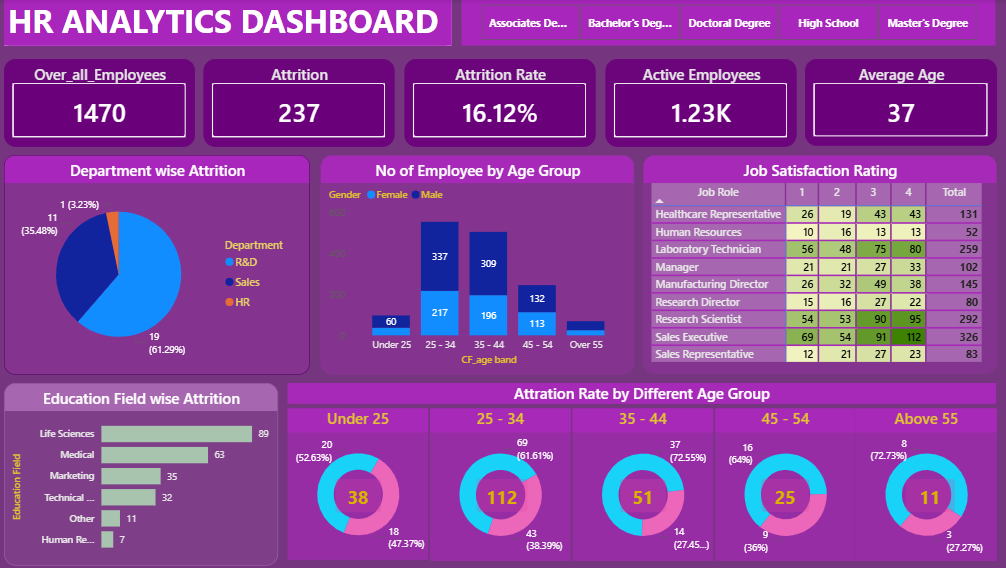

The page's visual inventory and layout, read from the dashboard file:
{"tool":"powerbi","page":{"name":"Page 1","canvas":[1280,720],"ordinal":0},"visuals":[{"type":"cardVisual","title":"Over_all_Employees","fields":{"Data":["HR data.Employee_Count"]},"box":[14.6,74.8,240.7,110.6],"z":0},{"type":"cardVisual","title":"Attrition","fields":{"Data":["Sum(HR data.Attrition Count)"]},"box":[266.8,74.8,240.7,110.6],"z":1000},{"type":"cardVisual","title":"Attrition Rate","fields":{"Data":["HR data.Attrition Rate"]},"box":[518.9,74.8,240.7,110.6],"z":2000},{"type":"cardVisual","title":"Active Employees","fields":{"Data":["HR data.Active Employees"]},"box":[772.6,74.8,240.7,110.6],"z":3000},{"type":"cardVisual","title":"Average Age","fields":{"Data":["Avg(HR data.Age)"]},"box":[1024.3,75.6,241.9,109.6],"z":4000},{"type":"pieChart","title":"Department wise Attrition","fields":{"Category":["HR data.Department"],"Y":["Sum(HR data.Attrition Count)"]},"box":[14.6,196.8,385.5,276.5],"z":5000},{"type":"columnChart","title":"No of Employee by Age Group","fields":{"Category":["HR data.CF_age band"],"Y":["CountNonNull(HR data.Employee Count)"],"Series":["HR data.Gender"]},"box":[413.1,196.8,395.3,276.5],"z":6000},{"type":"pivotTable","title":"Job Satisfaction Rating","fields":{"Rows":["HR data.Job Role"],"Columns":["HR data.Job Satisfaction"],"Values":["CountNonNull(HR data.Employee Count)"]},"box":[820.2,196.5,446,275.9],"z":7000},{"type":"barChart","title":"Education Field wise Attrition","fields":{"Category":["HR data.Education Field"],"Y":["Sum(HR data.Attrition Count)"]},"box":[15,484,345,230],"z":8000},{"type":"donutChart","title":"Under 25","fields":{"Category":["HR data.Gender"],"Y":["Sum(HR data.Attrition Count)"],"Series":["HR data.CF_age band"]},"box":[372.3,515.9,177.6,190.9],"z":9000},{"type":"textbox","title":"Attration Rate by Different Age Group","box":[372.5,484.7,893,26],"z":10000},{"type":"donutChart","title":"25 - 34","fields":{"Category":["HR data.Gender"],"Y":["Sum(HR data.Attrition Count)"],"Series":["HR data.CF_age band"]},"box":[551.4,516.7,177.3,191.9],"z":11000},{"type":"donutChart","title":"35 - 44","fields":{"Category":["HR data.Gender"],"Y":["Sum(HR data.Attrition Count)"],"Series":["HR data.CF_age band"]},"box":[731.9,516.7,177.3,191.9],"z":12000},{"type":"donutChart","title":"45 - 54","fields":{"Category":["HR data.Gender"],"Y":["Sum(HR data.Attrition Count)"],"Series":["HR data.CF_age band"]},"box":[910.9,516.7,177.3,191.9],"z":13000},{"type":"donutChart","title":"Above 55","fields":{"Category":["HR data.Gender"],"Y":["Sum(HR data.Attrition Count)"],"Series":["HR data.CF_age band"]},"box":[1088.2,516.7,177.3,191.9],"z":14000},{"type":"cardVisual","fields":{"Data":["Sum(HR data.Attrition Count)"]},"box":[427.8,598.6,68.3,53.7],"z":15000},{"type":"cardVisual","fields":{"Data":["Sum(HR data.Attrition Count)"]},"box":[604.7,599.1,75.6,52.9],"z":16000},{"type":"cardVisual","fields":{"Data":["Sum(HR data.Attrition Count)"]},"box":[785.6,598.6,68.3,53.7],"z":17000},{"type":"cardVisual","fields":{"Data":["Sum(HR data.Attrition Count)"]},"box":[963.8,599.1,71.8,52.9],"z":18000},{"type":"cardVisual","fields":{"Data":["Sum(HR data.Attrition Count)"]},"box":[1145.1,598.6,73.2,53.7],"z":19000},{"type":"textbox","title":"HR ANALYTICS DASHBOARD","box":[15.1,0,563.2,58.6],"z":20000},{"type":"slicer","fields":{"Values":["HR data.Education"]},"box":[591.5,0,672.8,58.6],"z":21000}]}

Visuals, with their boxes in screenshot pixels (x1, y1, x2, y2), scaled from the page's 1280x720 canvas onto the 1006x568 screenshot:
"Over_all_Employees" cardVisual: [11, 59, 201, 146]
"Attrition" cardVisual: [210, 59, 399, 146]
"Attrition Rate" cardVisual: [408, 59, 597, 146]
"Active Employees" cardVisual: [607, 59, 796, 146]
"Average Age" cardVisual: [805, 60, 995, 146]
"Department wise Attrition" pieChart: [11, 155, 314, 373]
"No of Employee by Age Group" columnChart: [325, 155, 635, 373]
"Job Satisfaction Rating" pivotTable: [645, 155, 995, 373]
"Education Field wise Attrition" barChart: [12, 382, 283, 563]
"Under 25" donutChart: [293, 407, 432, 558]
"Attration Rate by Different Age Group" textbox: [293, 382, 995, 403]
"25 - 34" donutChart: [433, 408, 573, 559]
"35 - 44" donutChart: [575, 408, 715, 559]
"45 - 54" donutChart: [716, 408, 855, 559]
"Above 55" donutChart: [855, 408, 995, 559]
cardVisual - Sum(HR data.Attrition Count): [336, 472, 390, 515]
cardVisual - Sum(HR data.Attrition Count): [475, 473, 535, 514]
cardVisual - Sum(HR data.Attrition Count): [617, 472, 671, 515]
cardVisual - Sum(HR data.Attrition Count): [757, 473, 814, 514]
cardVisual - Sum(HR data.Attrition Count): [900, 472, 958, 515]
"HR ANALYTICS DASHBOARD" textbox: [12, 0, 455, 46]
slicer - HR data.Education: [465, 0, 994, 46]
